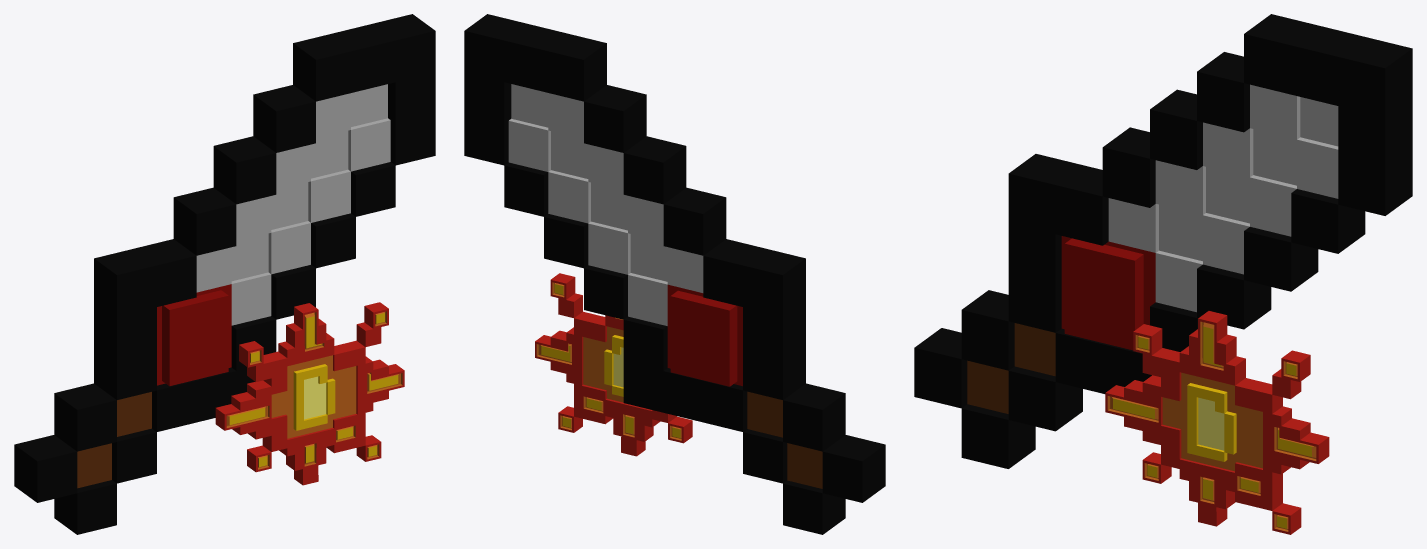
The model's file is sword_explosion.fbx.
3 views of the same model, side by side, from view 1: azimuth 30°, elevation 25°; view 2: azimuth 150°, elevation 25°; view 3: azimuth 330°, elevation 25° (orthographic). The views are drawn at different scales.
Parts seen in each view (by area): view 1: Cube.037; view 2: Cube.037; view 3: Cube.037.
Boxes of the visible parts, x1,y1,x2,y2 form: Cube.037: (14,14,435,534); Cube.037: (464,14,885,534); Cube.037: (914,14,1412,534).
Bounding box in the file's own units: 2000 × 2000 × 350.
